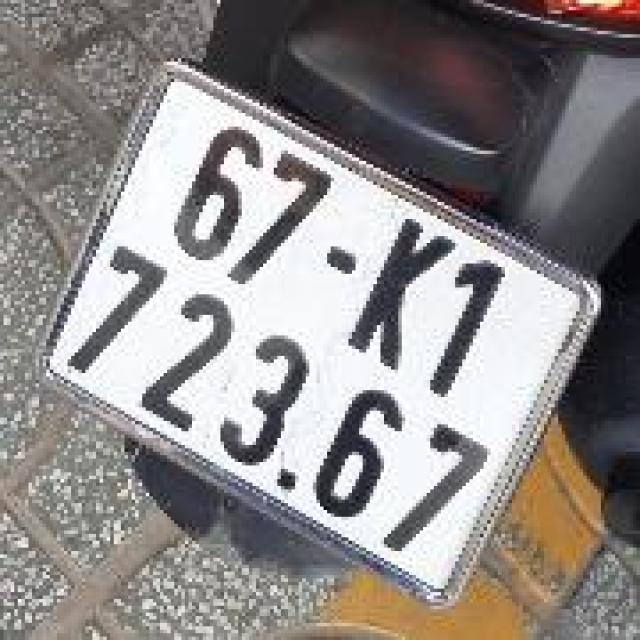1: (404, 240, 528, 417)
2: (121, 272, 255, 444)
3: (206, 314, 330, 483)
6: (297, 362, 424, 536), (153, 106, 279, 281)
7: (52, 236, 192, 402), (217, 135, 355, 303), (368, 410, 506, 577)
K: (329, 204, 468, 388)
